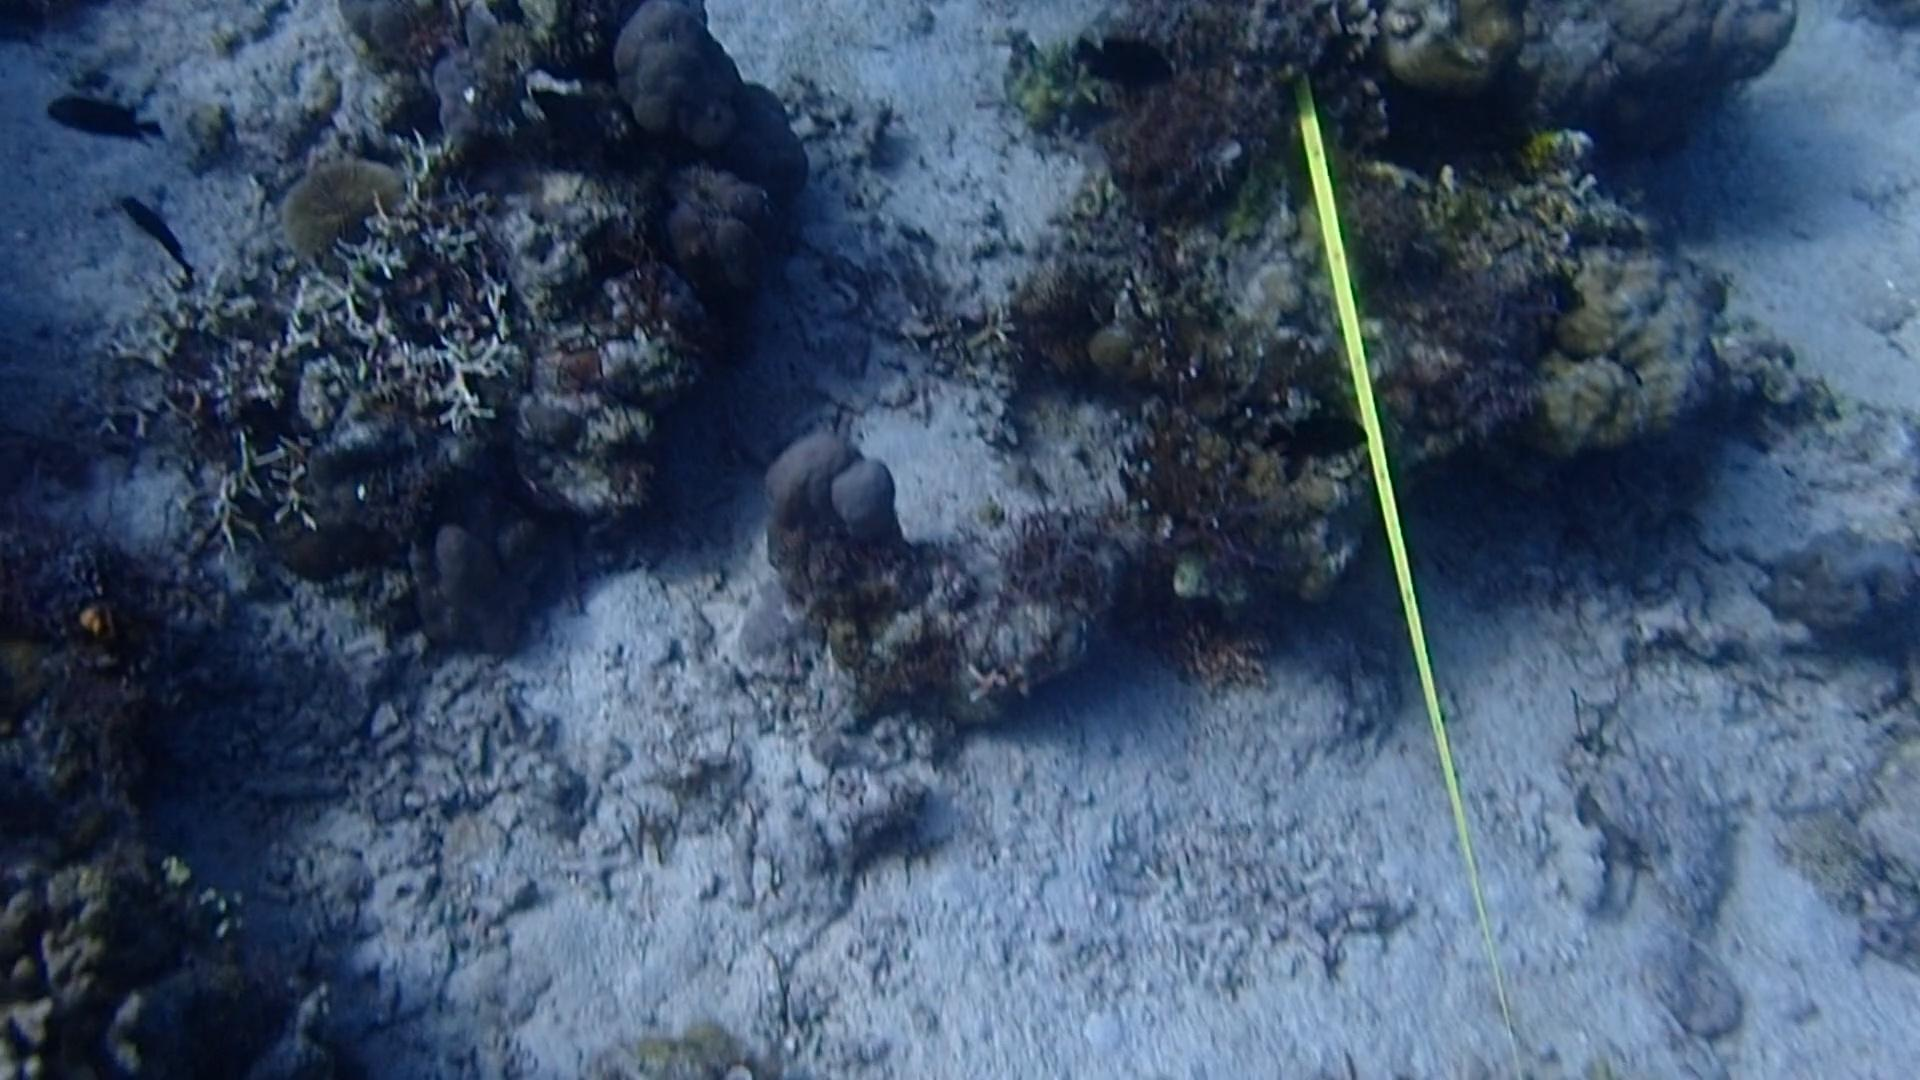Dark Fish: (1247, 393, 1387, 476), (38, 80, 165, 166), (524, 69, 622, 170), (108, 183, 208, 280), (1071, 28, 1180, 109)
